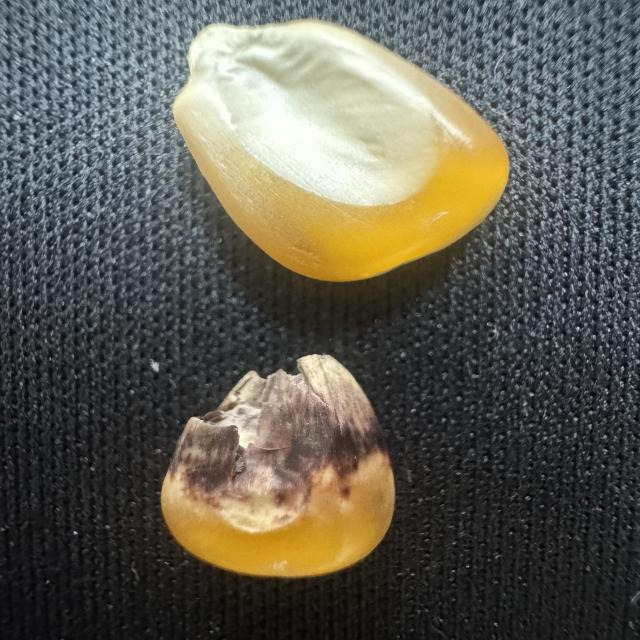Bad-Seed: (152, 349, 405, 584)
Good-Seed: (169, 12, 517, 289)
